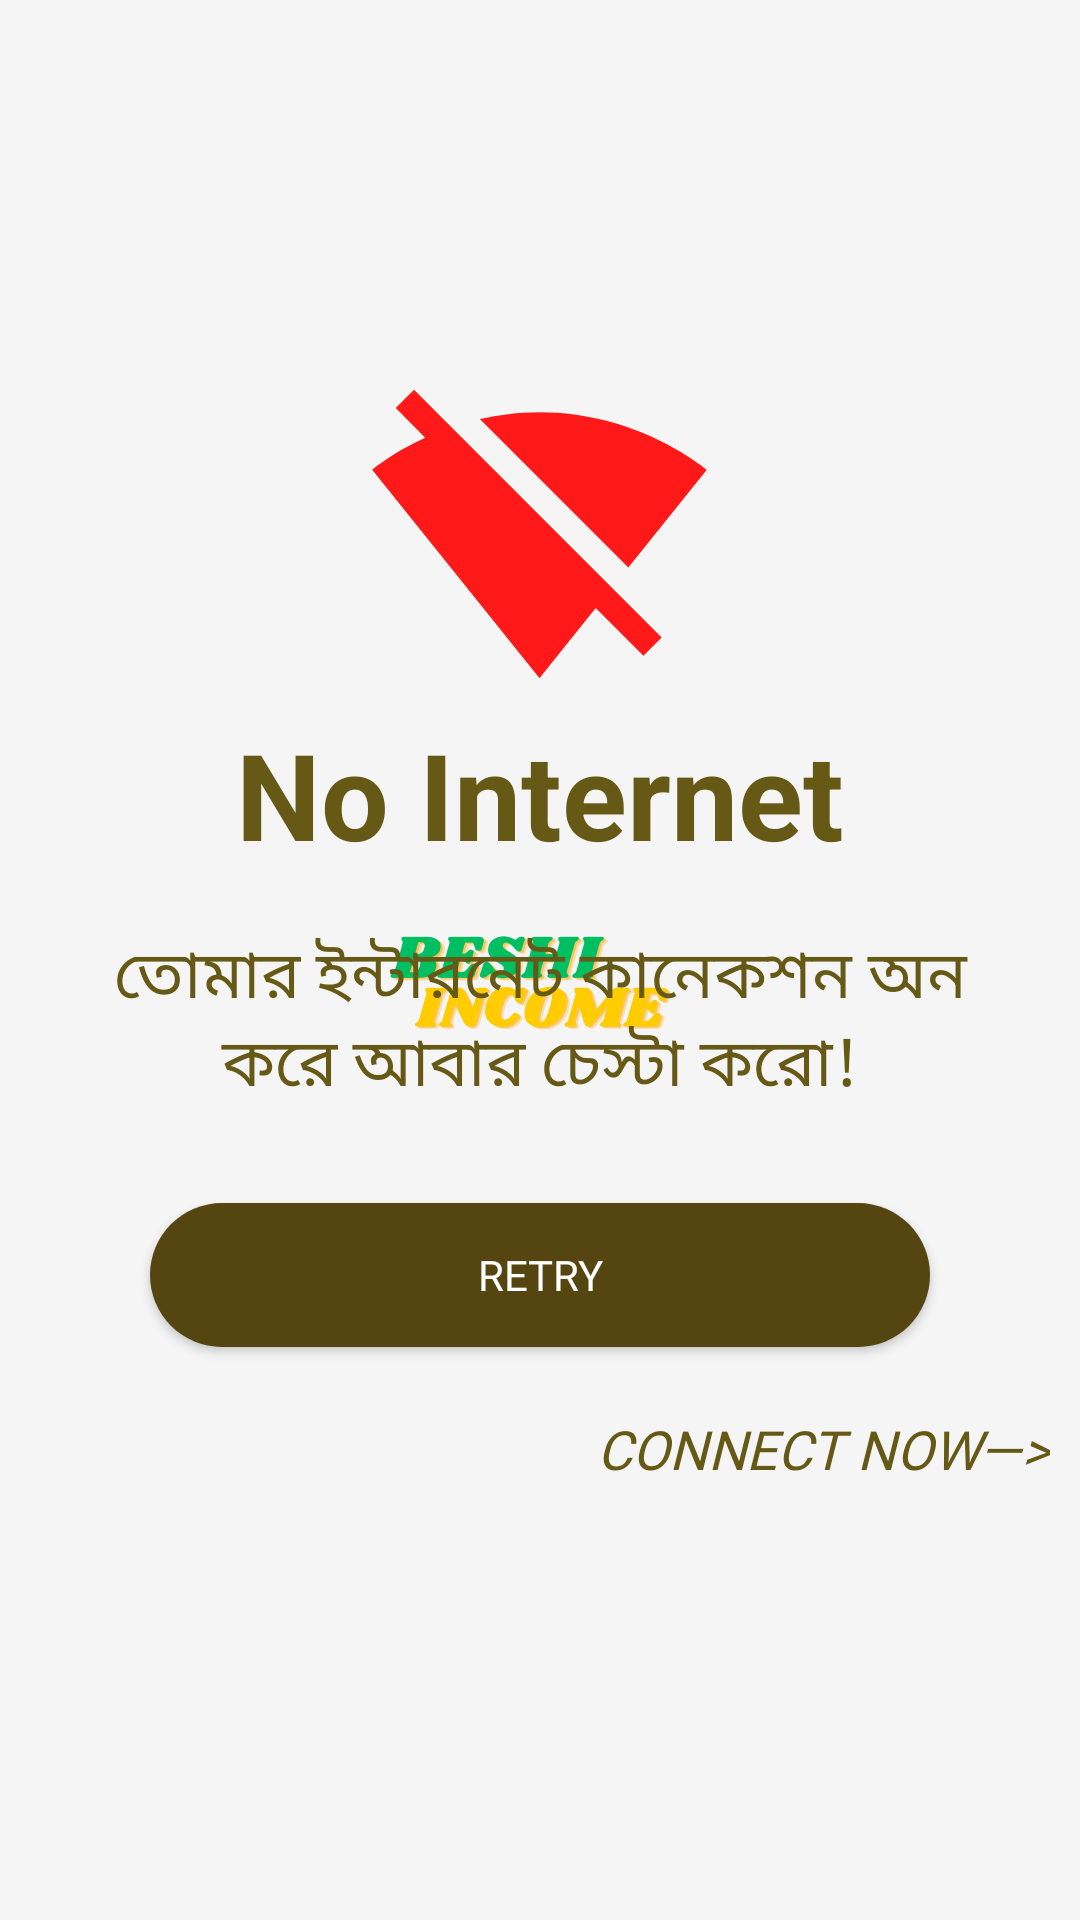

Icon bounding boxes for this 1080px×1920px phone screenshot, format [x1, y1, x2, y2]:
signal wifi off: [372, 390, 707, 678]
